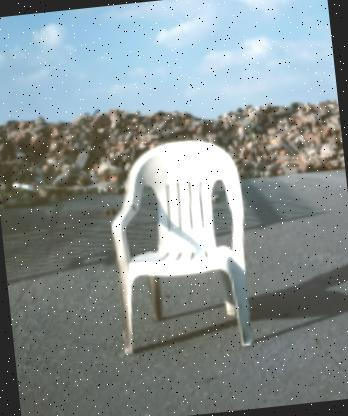chair: (94, 129, 264, 358)
